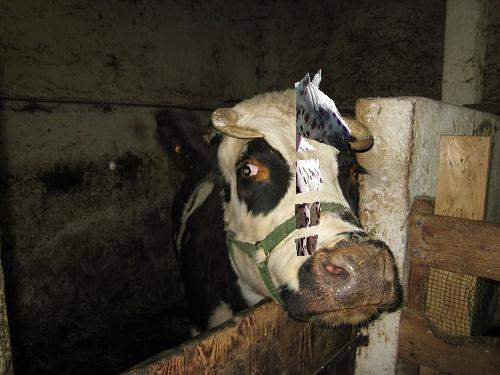tampered: (296, 70, 351, 256)
